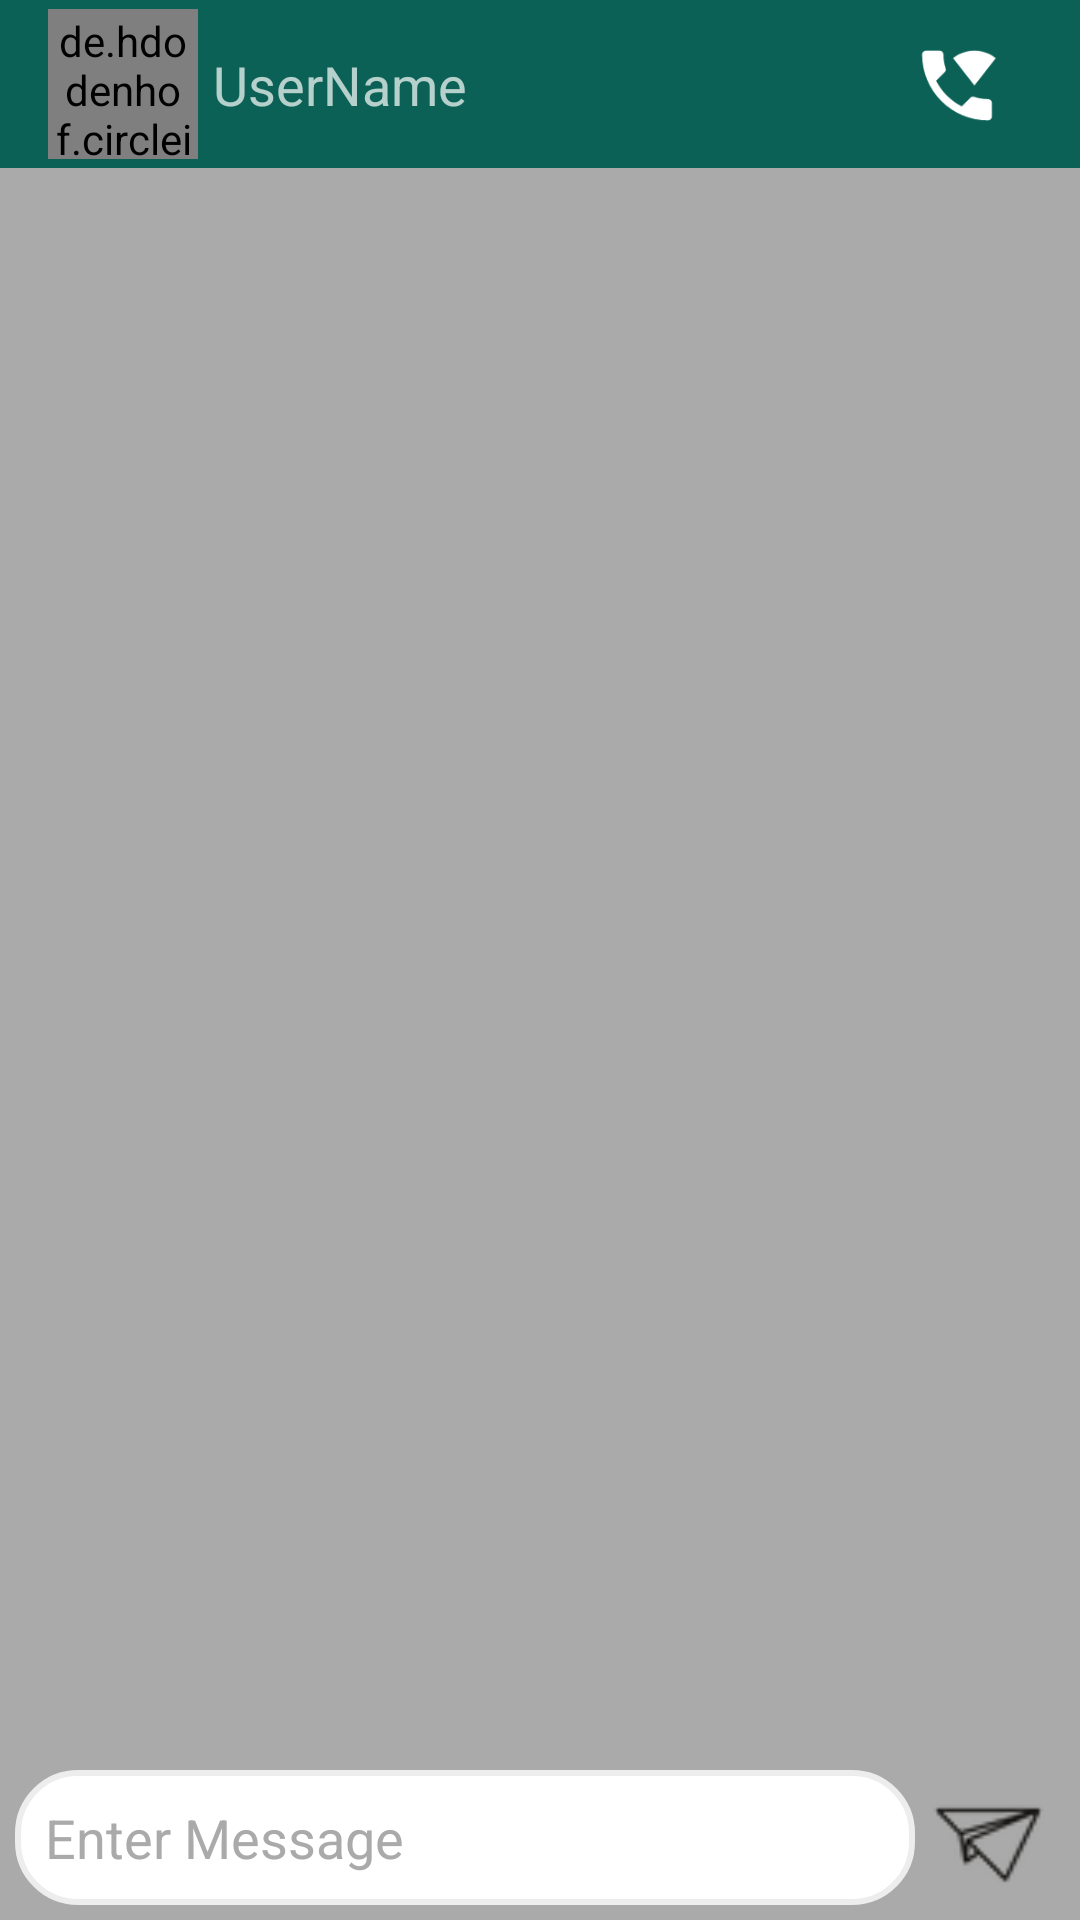

Icon bounding boxes for this 1080px×1920px phone screenshot, format (x1, y1, x2, y2):
call: (921, 50, 996, 121)
send: (936, 1807, 1041, 1882)
